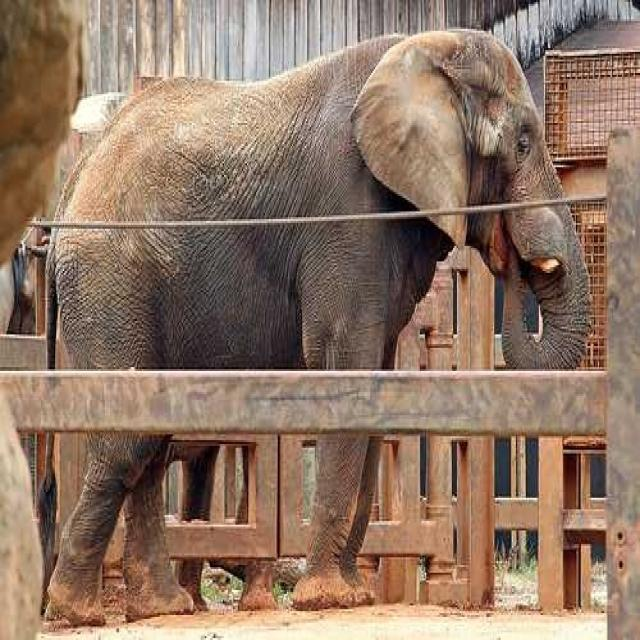Elephant: (34, 25, 592, 627)
